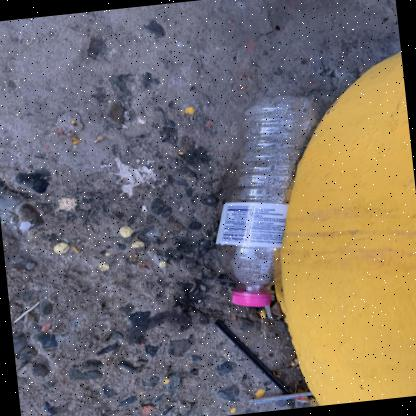Clear plastic bottle: (215, 95, 315, 306)
Plastic bottle cap: (231, 294, 271, 307)
Plastic straw: (214, 319, 291, 394), (248, 391, 312, 404)
